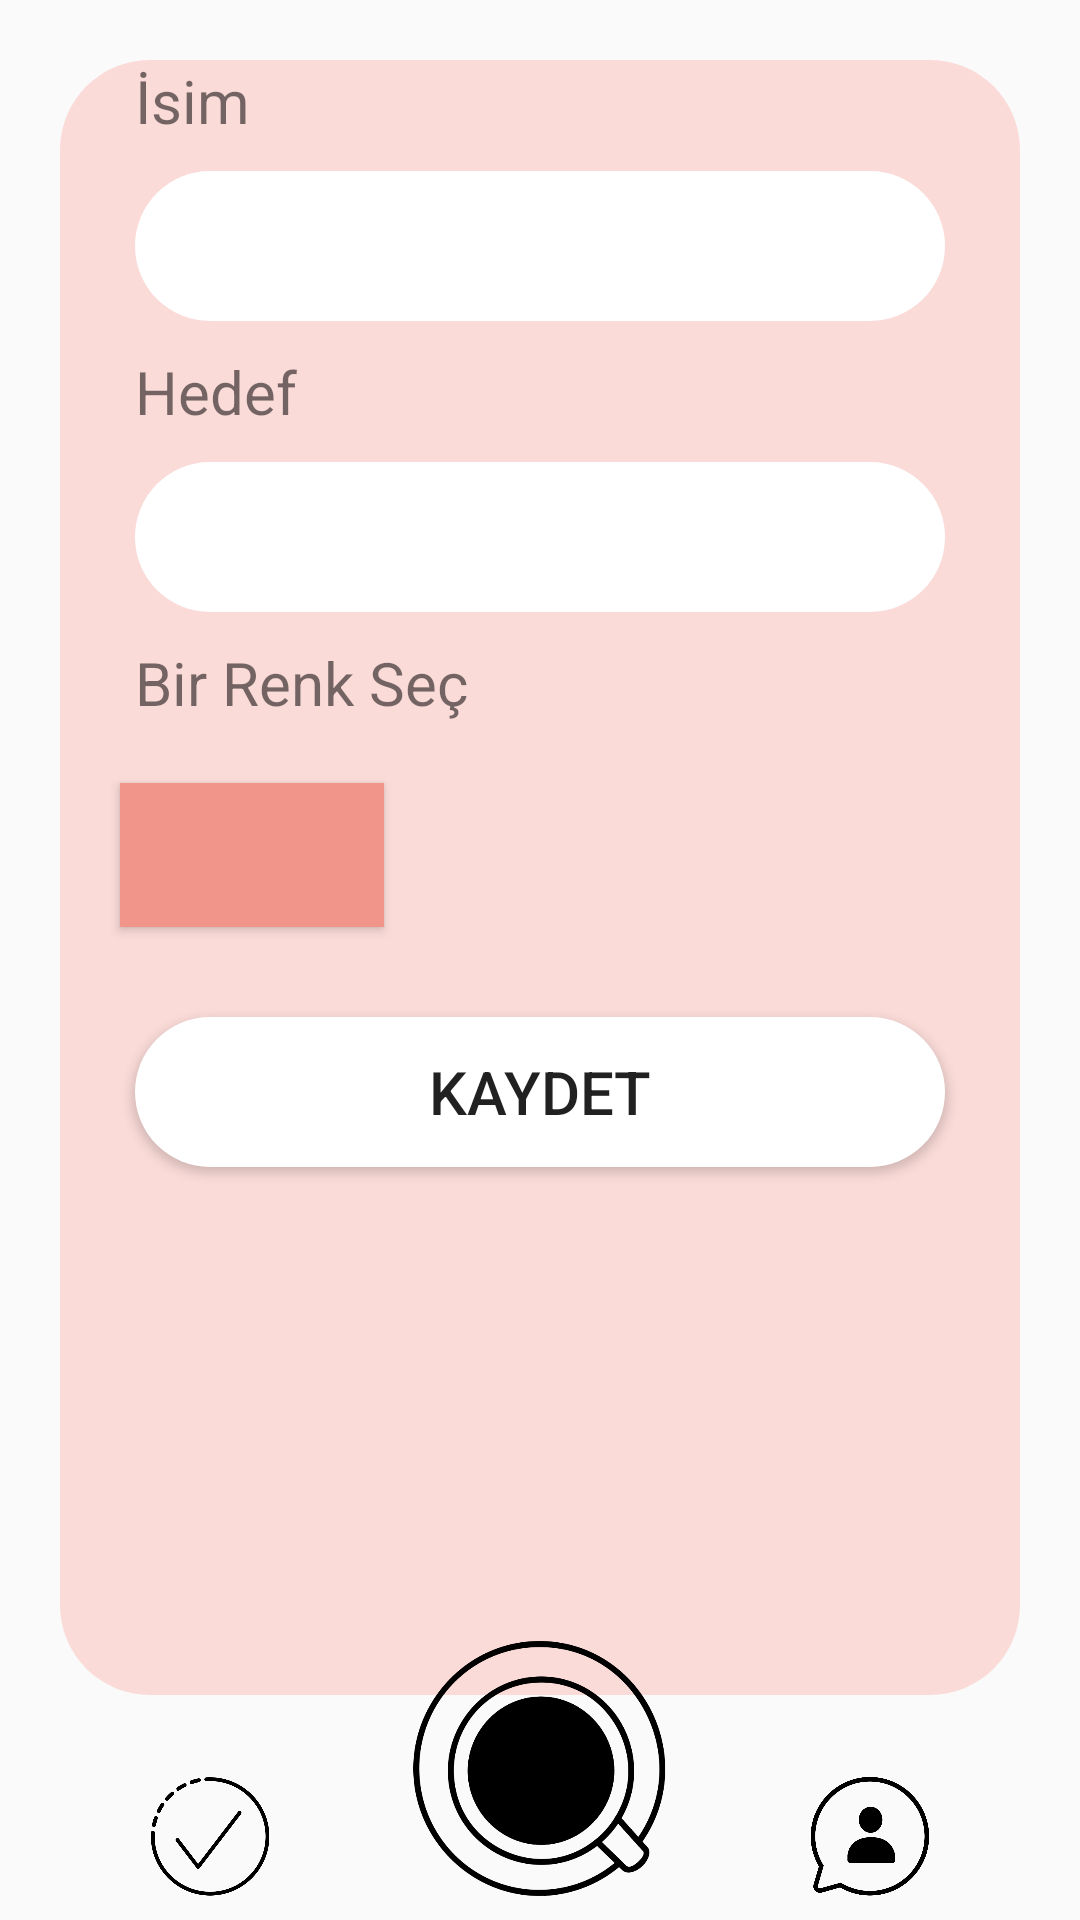

Icons on this 1080px×1920px Android screen, each with the point to tap as (x=x, y=y):
arkadaslar: (x=870, y=1836)
yapilan: (x=210, y=1836)
